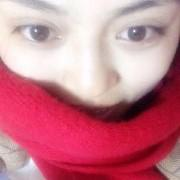WRONG: (9, 1, 177, 140)
